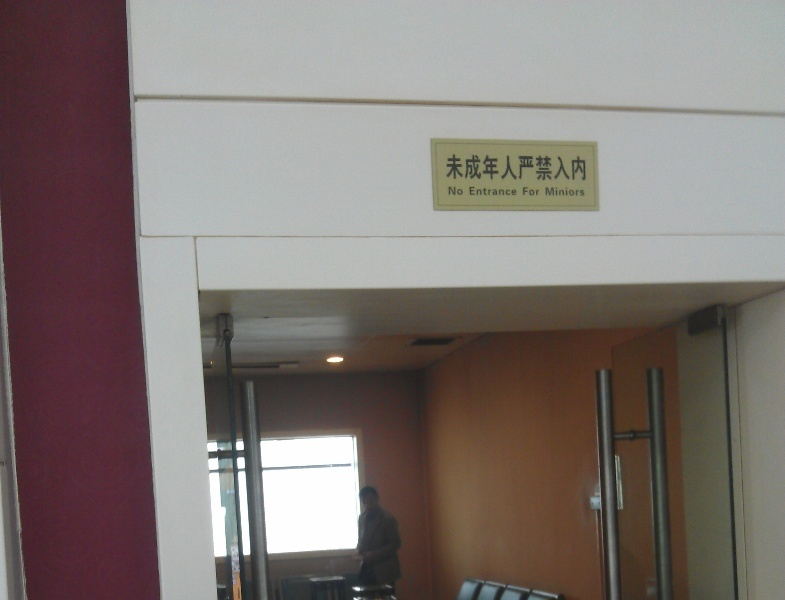text: (449, 154, 464, 181), (465, 154, 480, 181), (481, 154, 496, 181), (497, 154, 512, 181), (513, 154, 528, 181), (529, 154, 544, 181), (545, 154, 560, 181), (561, 154, 576, 181), (577, 154, 588, 181), (481, 187, 496, 197), (497, 187, 512, 197), (449, 186, 464, 196), (545, 187, 560, 196), (561, 187, 576, 196), (469, 187, 480, 197), (529, 187, 541, 196), (577, 187, 586, 196), (446, 154, 448, 181), (513, 187, 518, 197), (523, 187, 528, 196)
